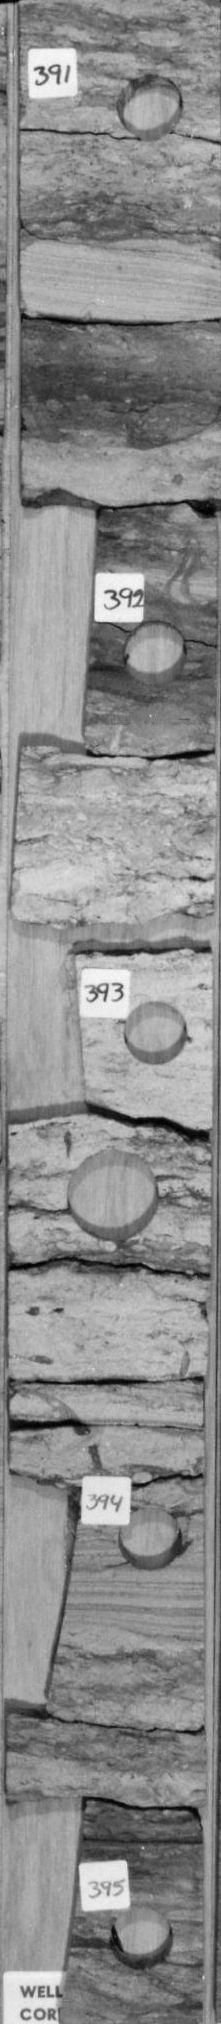hplug: (109, 1500, 190, 1580), (109, 68, 190, 145), (103, 1897, 182, 1975), (118, 997, 195, 1071), (120, 617, 193, 691)
scal: (63, 1142, 165, 1242)
vplug: (1, 1472, 84, 1726), (26, 488, 101, 763), (5, 1788, 88, 2024), (1, 947, 92, 1136)
